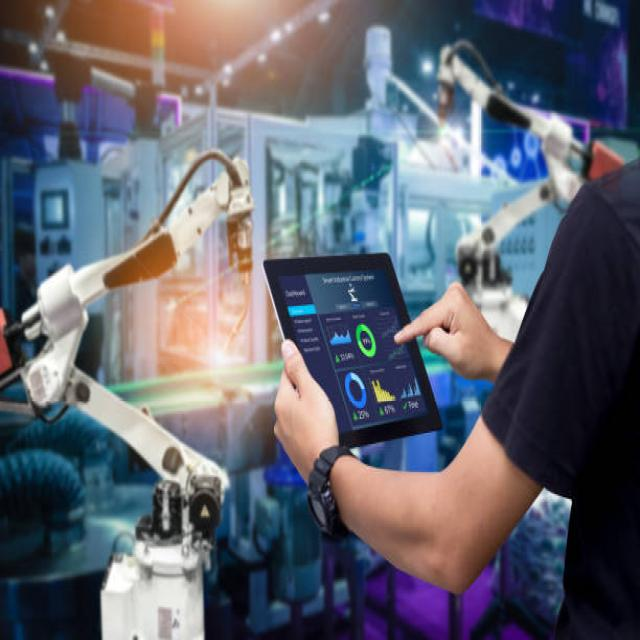Robotic-arm: (0, 141, 261, 640), (433, 23, 591, 331)
